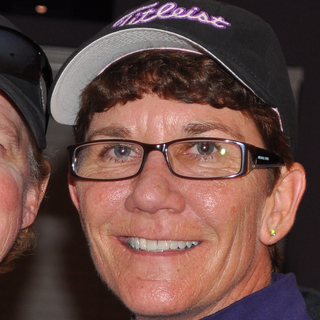eye: (175, 138, 228, 159), (98, 141, 144, 164)
